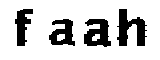a: (80, 14, 110, 49), (48, 16, 76, 46)
f: (10, 5, 39, 49)
h: (113, 5, 148, 49)
